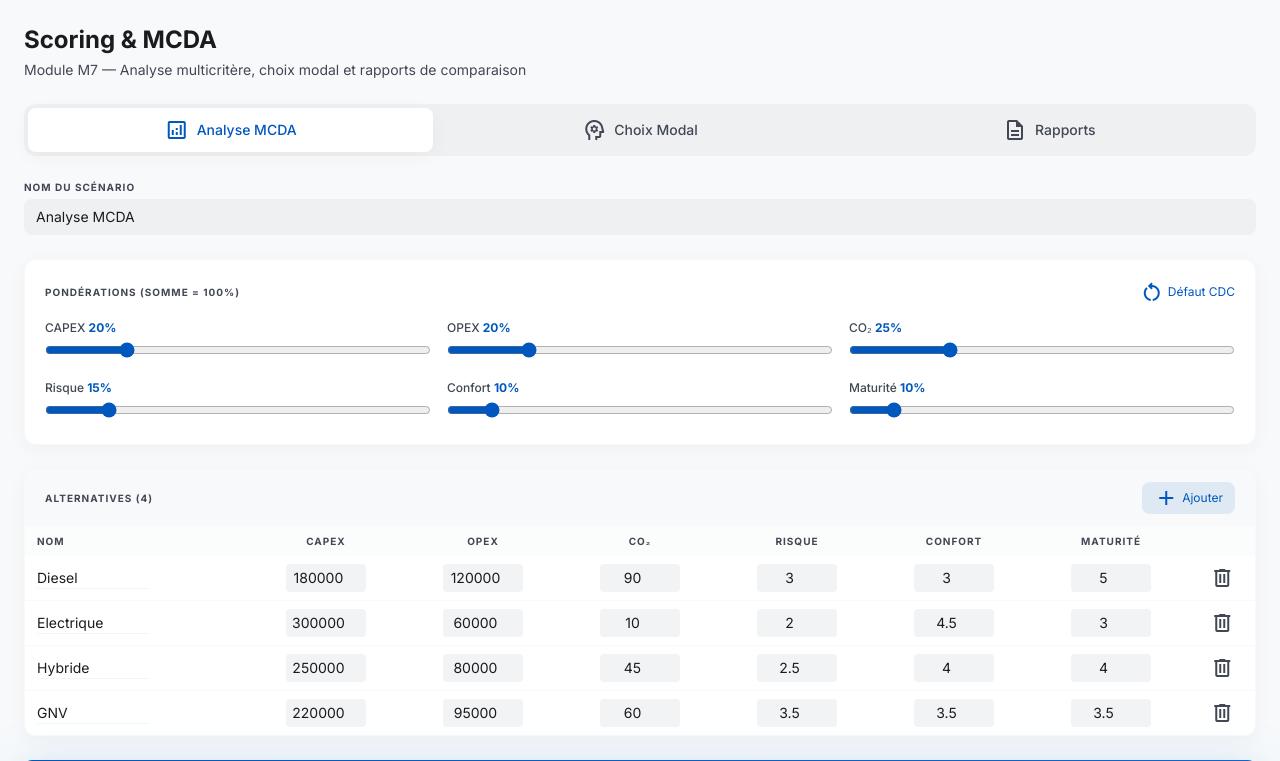
Test case: ScoringDashboardPage › switches to modal choice tab
Step 1. Click the button "Choix Modal" → (640, 130), box x1=437 y1=108 x2=843 y2=152
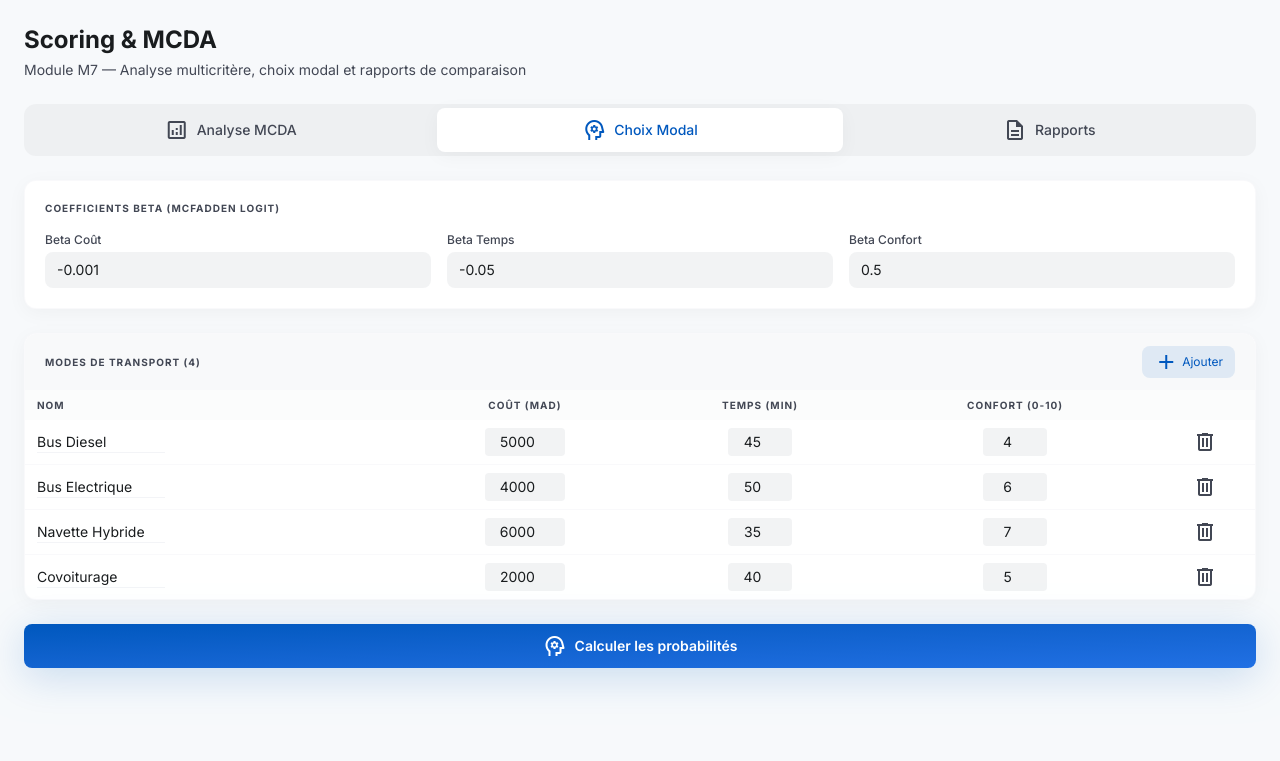
Expected: the heading "Coefficients Beta (McFadden Logit)" is shown, x1=45 y1=202 x2=280 y2=214
Expected: the button "Calculer les probabilités" is shown, x1=24 y1=624 x2=1256 y2=668
